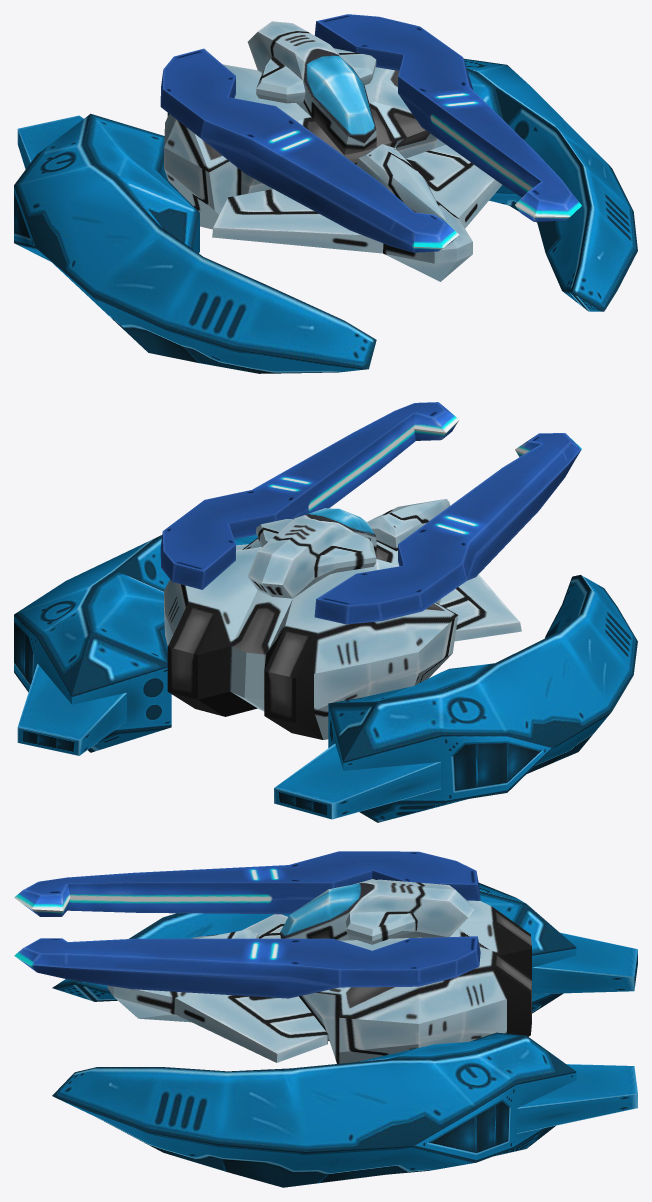
3 views of the same model, one above another, from view 1: azimuth 30°, elevation 25°; view 2: azimuth 150°, elevation 25°; view 3: azimuth 270°, elevation 25° (orthographic). The views are drawn at different scales.
Parts seen in each view (by area): view 1: alas, canon, cuerpo; view 2: alas, cuerpo, canon; view 3: alas, canon, cuerpo.
Boxes of the visible parts, x1,y1,x2,y2 form: alas: [14, 58, 637, 373]; canon: [160, 14, 581, 252]; cuerpo: [164, 21, 501, 281]; alas: [14, 535, 637, 822]; cuerpo: [164, 499, 521, 739]; canon: [160, 402, 581, 624]; alas: [52, 883, 637, 1187]; canon: [14, 851, 480, 998]; cuerpo: [107, 879, 531, 1063].
Size of the model in its own units: 241 by 96.02 by 267.
